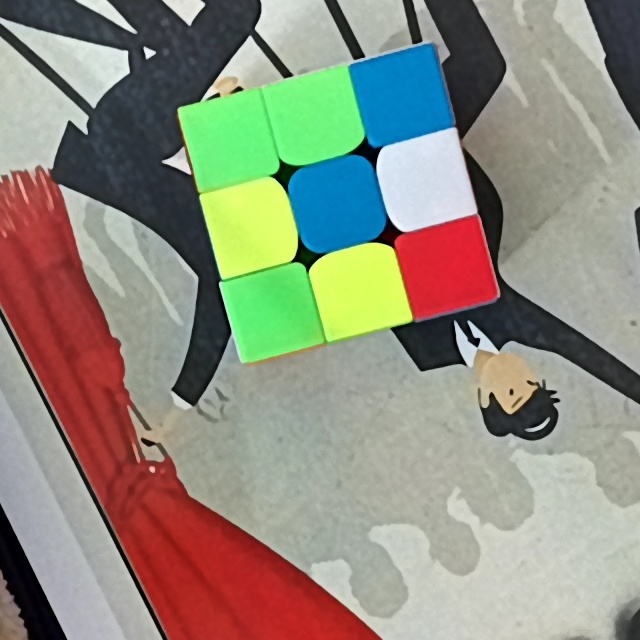tile: (192, 107, 263, 174), (391, 147, 460, 213), (412, 235, 481, 301), (218, 193, 283, 263), (282, 86, 350, 151), (367, 64, 434, 129), (304, 170, 369, 237), (328, 257, 394, 321), (238, 282, 305, 345)
